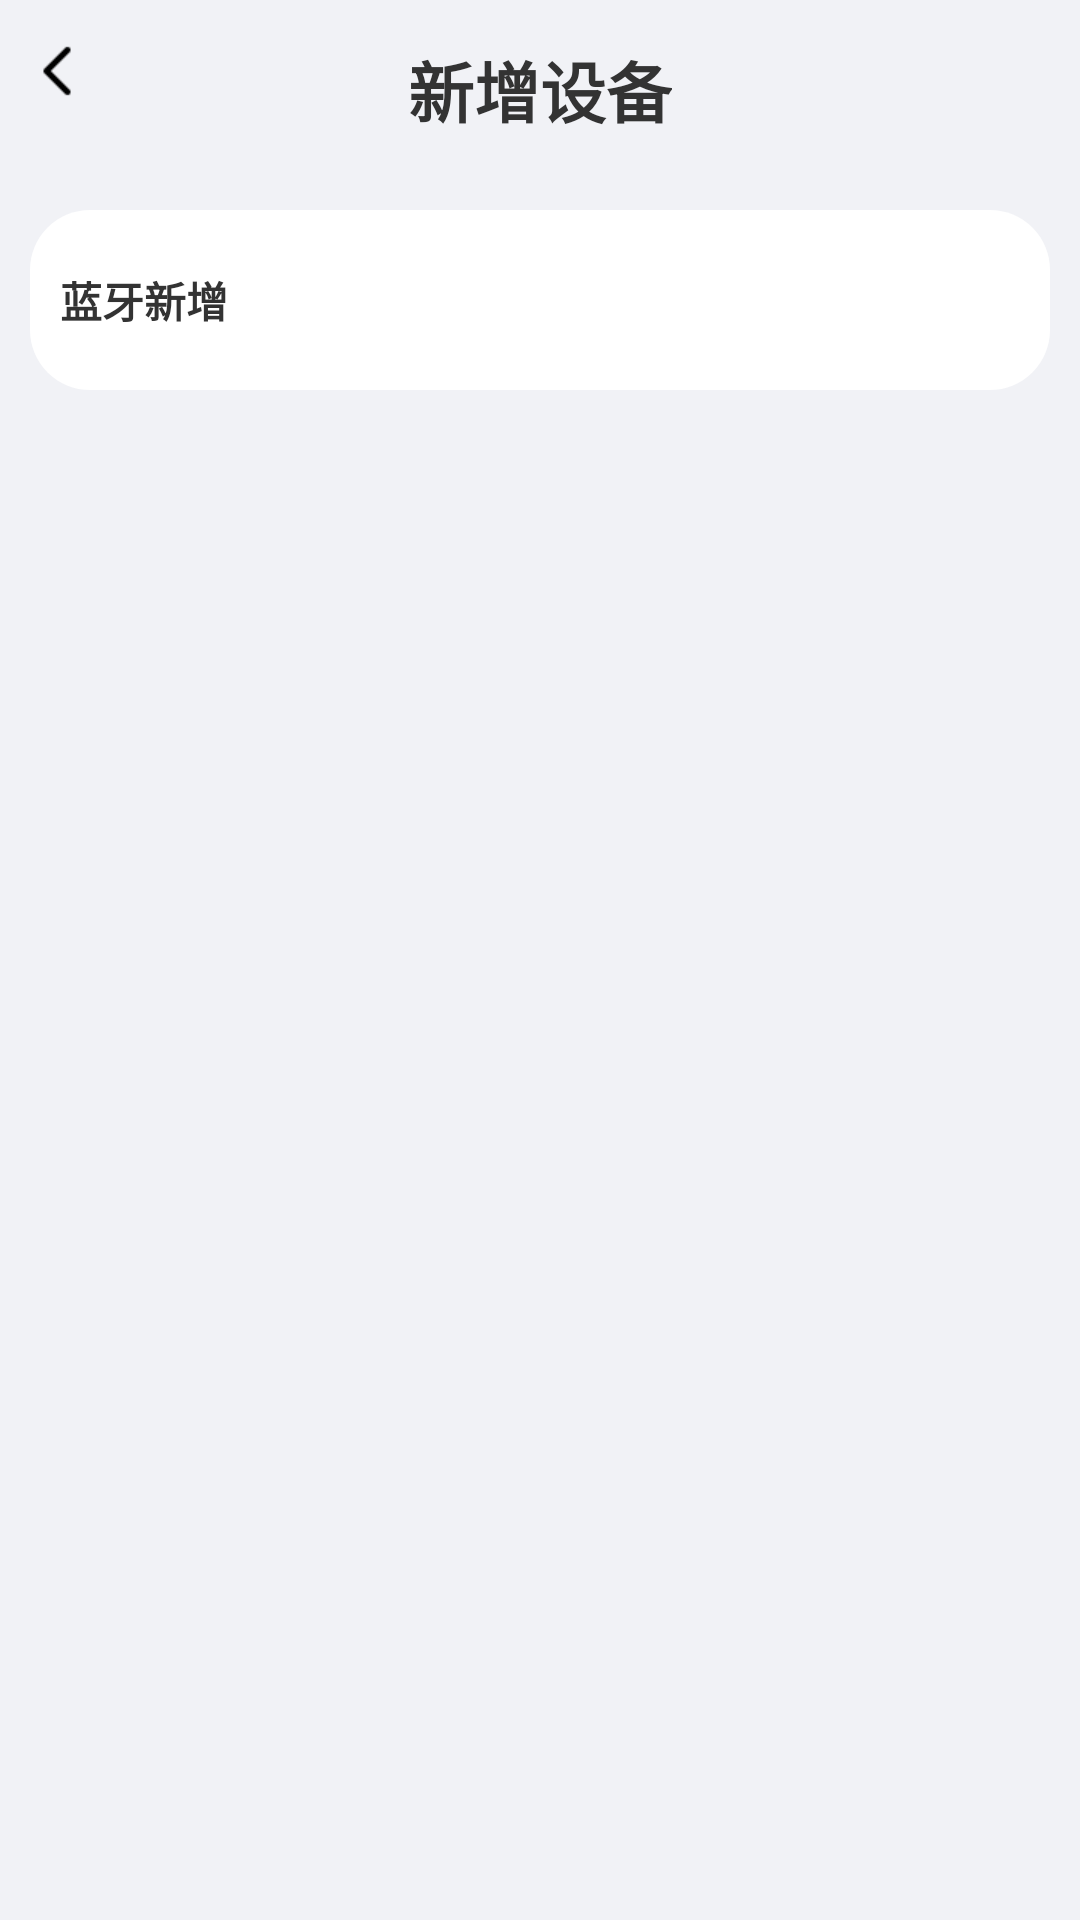

Where icons sit on this 1080w x 1920h app screen, as [x1, y1, x2, y2]:
back: [43, 46, 71, 96]
